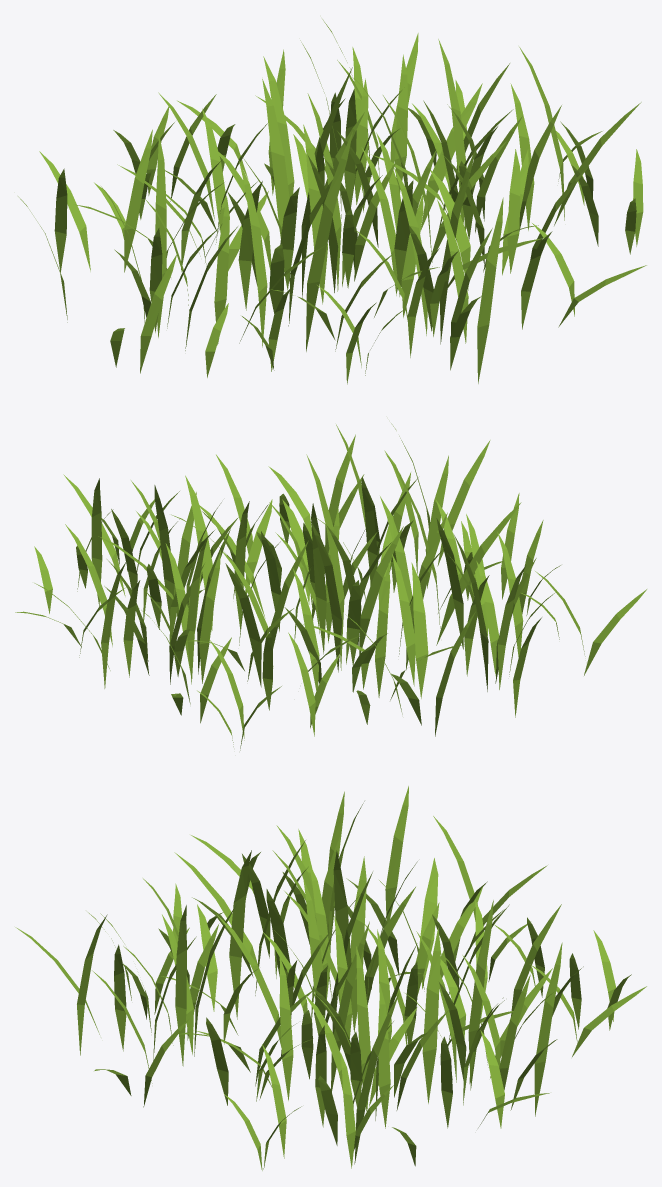
The model's file is grass-small-c.fbx.
The picture shows the model from 3 angles, top to bottom: view 1: azimuth 30°, elevation 25°; view 2: azimuth 150°, elevation 25°; view 3: azimuth 270°, elevation 25°; orthographic projection. The views are drawn at different scales.
Visible parts, largest first — view 1: grass-small-c; view 2: grass-small-c; view 3: grass-small-c.
Boxes of the visible parts, left/top/right/bottom form: grass-small-c: left=18, top=19, right=646, bottom=384; grass-small-c: left=15, top=423, right=646, bottom=750; grass-small-c: left=15, top=786, right=646, bottom=1170.
Bounding box in the file's own units: 1.2 × 0.4491 × 1.17.
